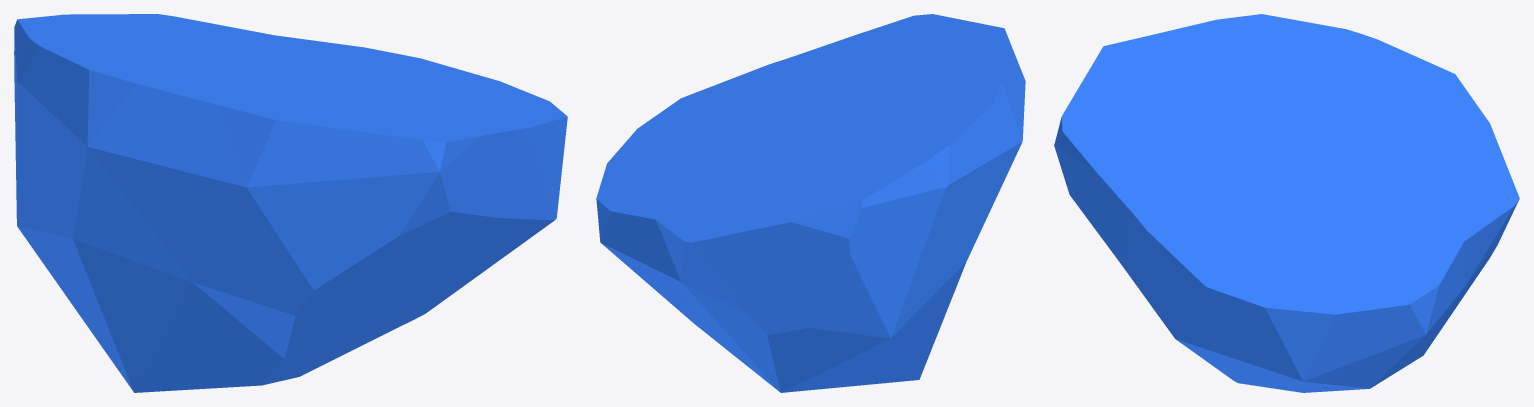
Rendered from core_shell_lower.glb.
3 views of the same model, side by side, from view 1: azimuth 30°, elevation 25°; view 2: azimuth 150°, elevation 25°; view 3: azimuth 270°, elevation 25° (orthographic). The views are drawn at different scales.
Parts seen in each view (by area): view 1: core_shell_lower; view 2: core_shell_lower; view 3: core_shell_lower.
Boxes of the visible parts, x1=… form: core_shell_lower: x1=14, y1=14, x2=567, y2=392; core_shell_lower: x1=596, y1=14, x2=1025, y2=392; core_shell_lower: x1=1054, y1=14, x2=1519, y2=392.
Bounding box in the file's own units: 0.9317 × 0.6922 × 0.9866.
